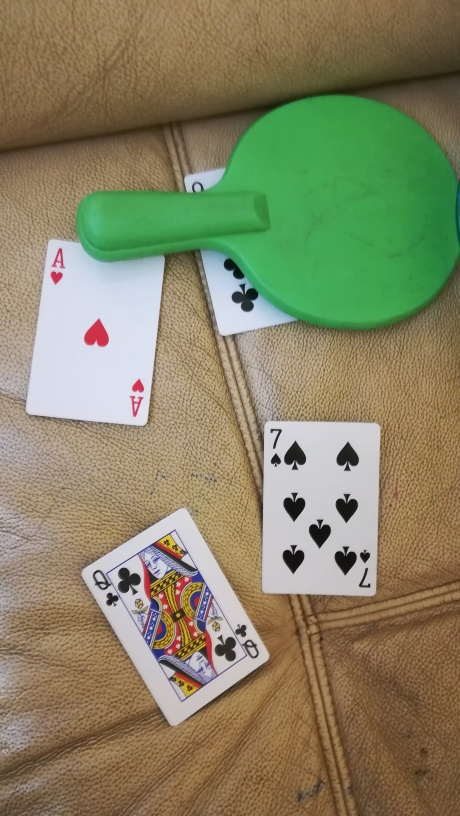ht 7: (253, 418, 395, 606)
hx a: (20, 230, 174, 444)
mh q: (74, 505, 277, 732)
